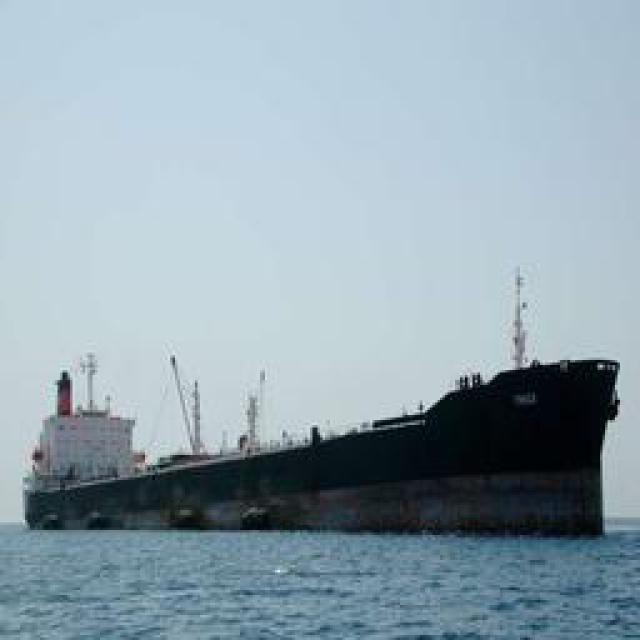Ship: (26, 334, 614, 537)
